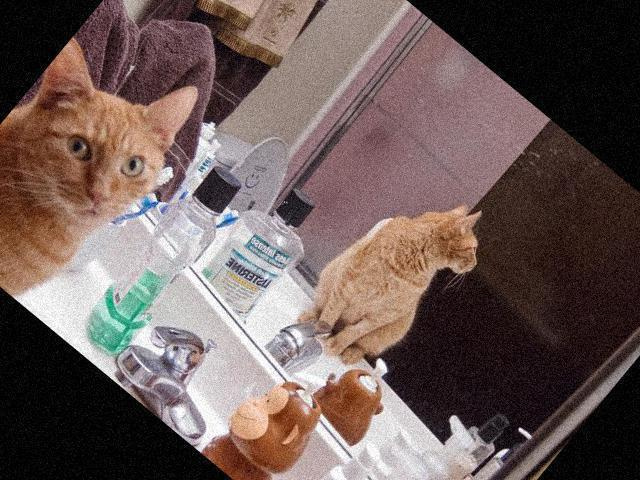Lavamanos: (128, 202, 475, 480)
Otro Obstaculo: (0, 0, 231, 326), (284, 156, 507, 387)
